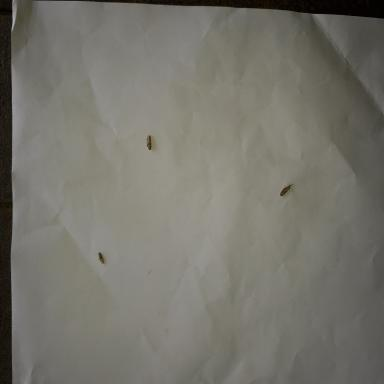pbw: (278, 179, 296, 199), (144, 132, 154, 153), (96, 250, 108, 267)
